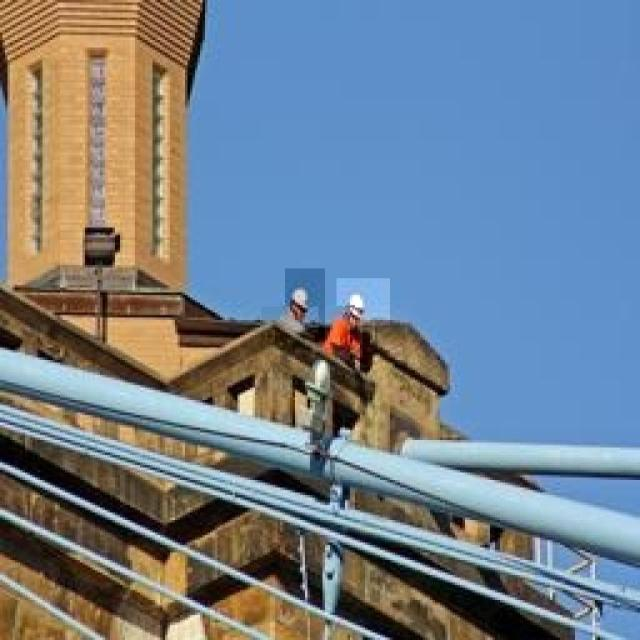Helmet: (285, 268, 325, 337), (336, 278, 390, 326), (262, 307, 318, 350), (325, 306, 354, 348)
